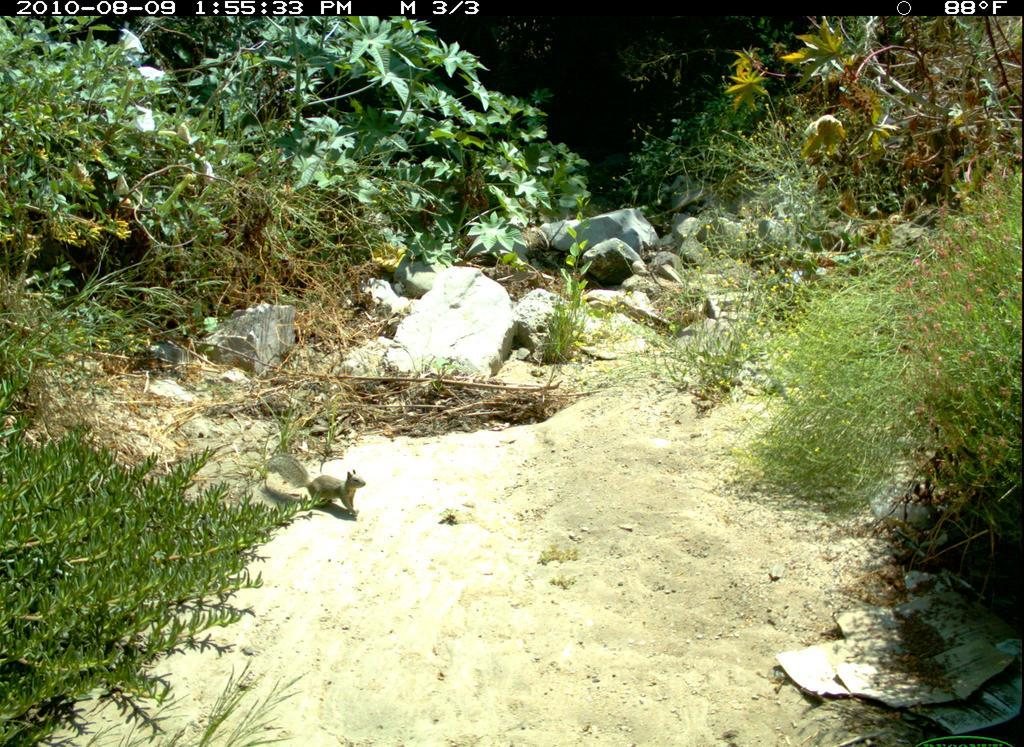squirrel: (268, 440, 382, 527)
